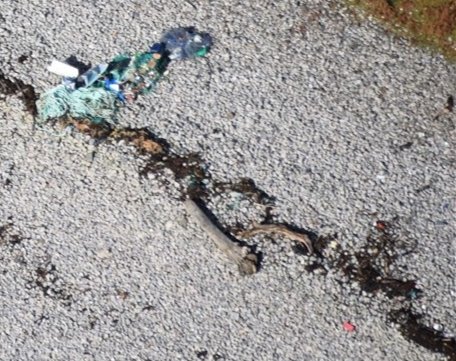net: (32, 24, 216, 126)
straight_bar: (179, 189, 261, 274)
tube: (241, 217, 314, 255)
white_in_green: (36, 42, 93, 93), (328, 304, 375, 346), (363, 207, 400, 241), (399, 278, 434, 309)
